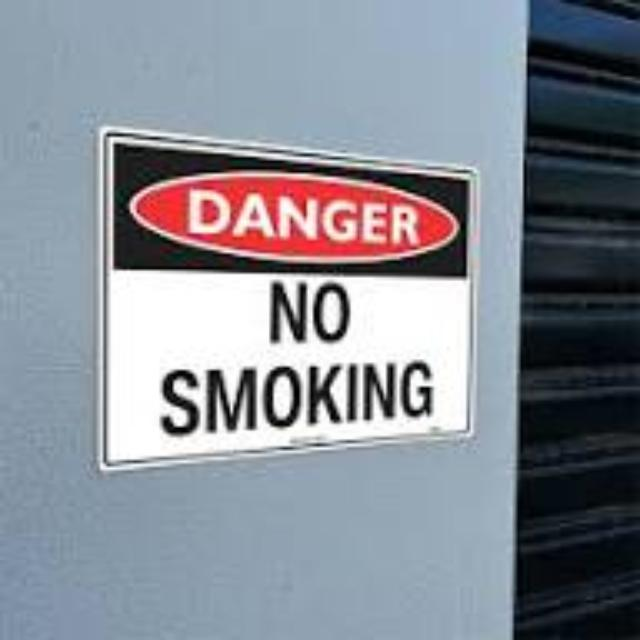cam hut thuoc: (103, 130, 473, 467)
